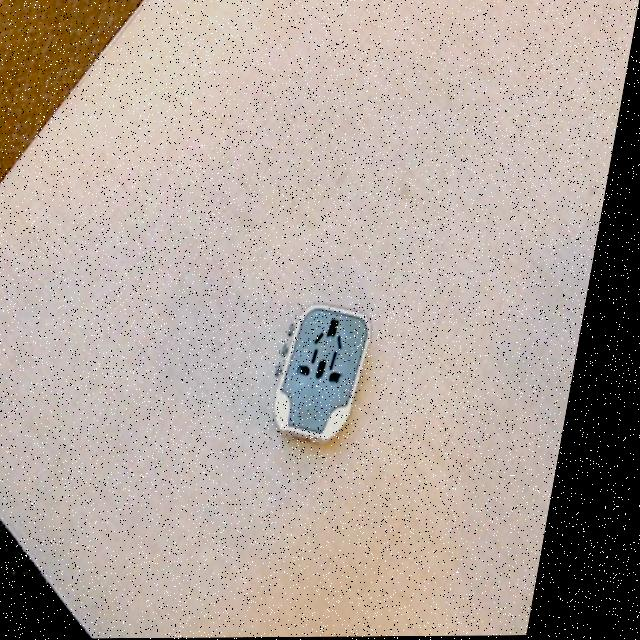adapter: (278, 302, 389, 443)
